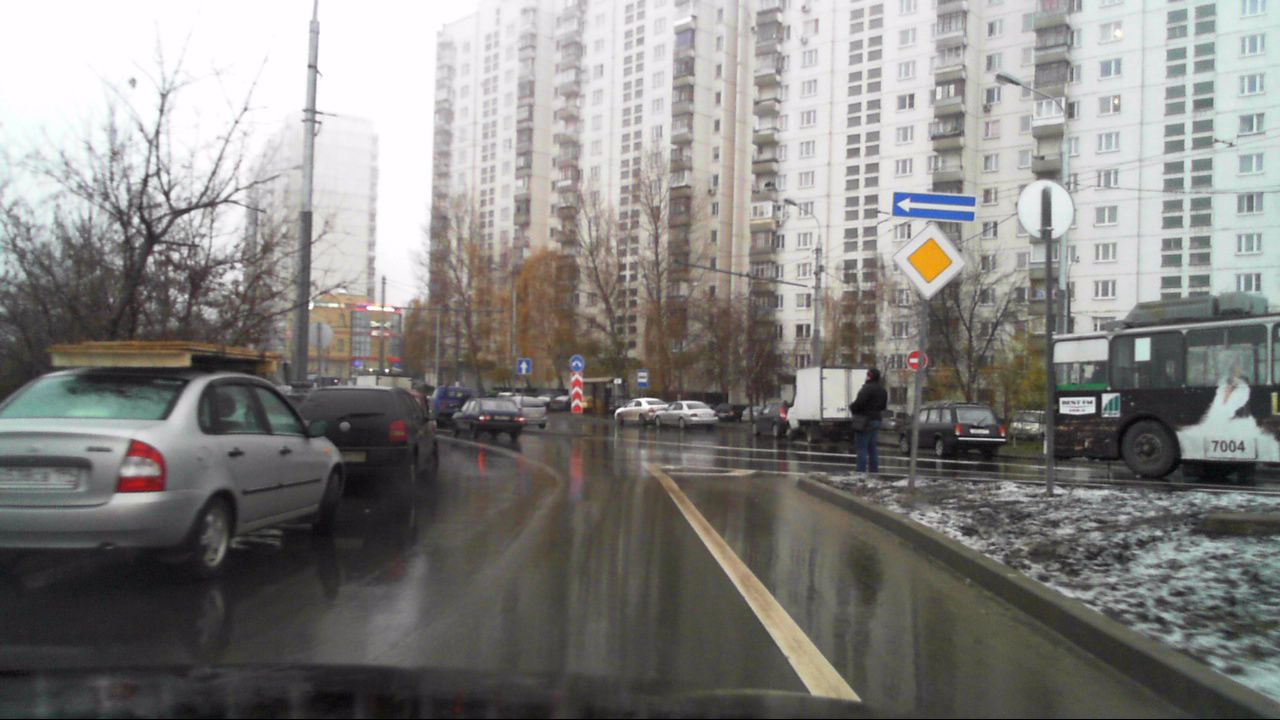One-Way Traffic: (892, 191, 976, 222)
